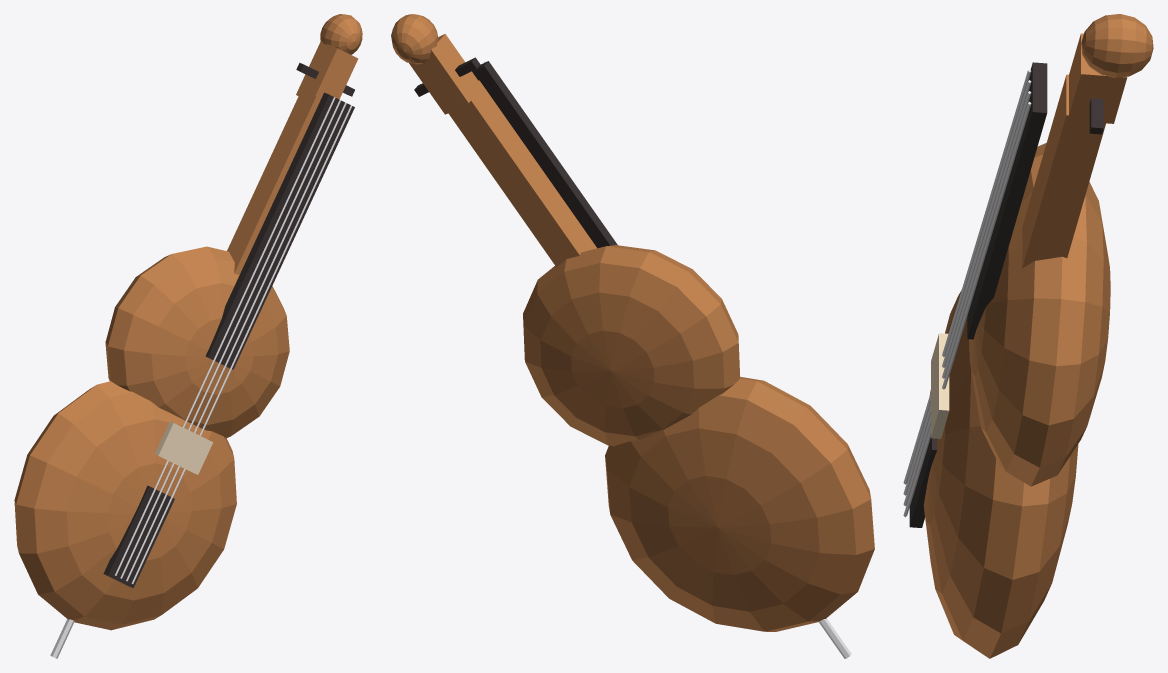
File: Cello_Played.glb
3 renders of one model, left to right at view 1: azimuth 30°, elevation 25°; view 2: azimuth 150°, elevation 25°; view 3: azimuth 270°, elevation 25°, orthographic. The views are drawn at different scales.
Visible parts, largest first — view 1: Cello_LowerBout, Cello_UpperBout, Cello_Fingerboard, Cello_Neck, Cello_Tailpiece, Cello_Pegbox, Cello_Bridge, Cello_Scroll, Cello_String.002, Cello_String.001, Cello_String, Cello_String.003; view 2: Cello_LowerBout, Cello_UpperBout, Cello_Neck, Cello_Fingerboard, Cello_Pegbox, Cello_Scroll; view 3: Cello_UpperBout, Cello_LowerBout, Cello_Neck, Cello_Fingerboard, Cello_Scroll, Cello_Pegbox, Cello_String.003, Cello_Bridge, Cello_String.001, Cello_String.002, Cello_String, Cello_Tailpiece (+1 smaller).
Part boxes in pixels (bbox=[...]): Cello_LowerBout: bbox=[14, 381, 236, 630]; Cello_UpperBout: bbox=[105, 246, 289, 438]; Cello_Fingerboard: bbox=[205, 92, 354, 369]; Cello_Neck: bbox=[227, 90, 320, 274]; Cello_Tailpiece: bbox=[103, 485, 174, 588]; Cello_Pegbox: bbox=[296, 41, 358, 101]; Cello_Bridge: bbox=[155, 421, 213, 474]; Cello_Scroll: bbox=[320, 14, 362, 54]; Cello_String.002: bbox=[126, 102, 346, 581]; Cello_String.001: bbox=[120, 100, 341, 578]; Cello_String: bbox=[115, 97, 335, 575]; Cello_String.003: bbox=[131, 105, 352, 583]; Cello_LowerBout: bbox=[605, 377, 874, 631]; Cello_UpperBout: bbox=[523, 245, 740, 446]; Cello_Neck: bbox=[448, 80, 596, 266]; Cello_Fingerboard: bbox=[472, 61, 617, 248]; Cello_Pegbox: bbox=[409, 34, 478, 114]; Cello_Scroll: bbox=[391, 14, 438, 64]; Cello_UpperBout: bbox=[969, 143, 1110, 486]; Cello_LowerBout: bbox=[923, 290, 1078, 658]; Cello_Neck: bbox=[1022, 74, 1107, 268]; Cello_Fingerboard: bbox=[967, 62, 1047, 339]; Cello_Scroll: bbox=[1081, 14, 1153, 77]; Cello_Pegbox: bbox=[1069, 33, 1127, 123]; Cello_String.003: bbox=[903, 101, 1031, 517]; Cello_Bridge: bbox=[931, 333, 949, 438]; Cello_String.001: bbox=[903, 80, 1031, 495]; Cello_String.002: bbox=[903, 91, 1031, 506]; Cello_String: bbox=[903, 69, 1031, 484]; Cello_Tailpiece: bbox=[909, 437, 937, 527].
Bounding box in the file's own units: 0.9089 × 1.19 × 0.3238.
